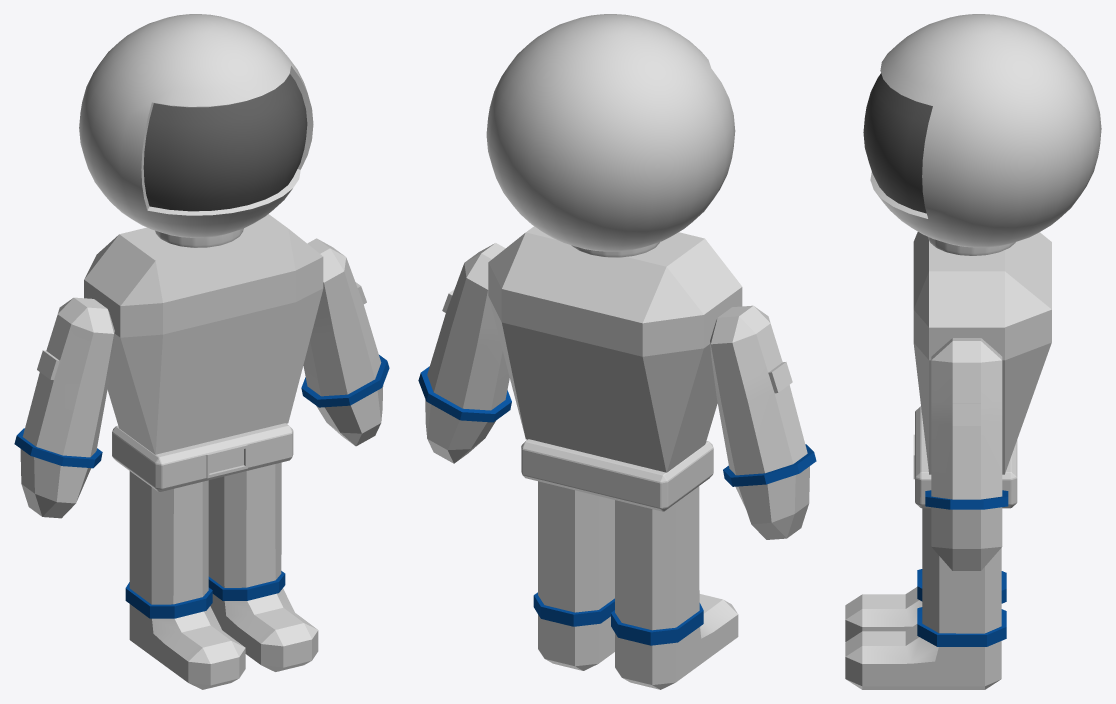
File: astoirnaut.fbx
The picture shows the model from 3 angles, left to right: view 1: azimuth 30°, elevation 25°; view 2: azimuth 150°, elevation 25°; view 3: azimuth 270°, elevation 25°; orthographic projection. The views are drawn at different scales.
Parts seen in each view (by area): view 1: pCube1, pSphere1, polySurface2, pCube9, pCube10, pCube4, pCylinder1; view 2: pSphere1, pCube1, polySurface2, pCube9, pCube10, pCube4; view 3: pSphere1, pCube1, polySurface2, pCube10, pCube9, pCube4, pCylinder1.
Part boxes in pixels (x1=…): pCube1: x1=84, y1=214, x2=323, y2=454; pSphere1: x1=79, y1=14, x2=313, y2=237; polySurface2: x1=14, y1=238, x2=389, y2=518; pCube9: x1=125, y1=471, x2=245, y2=689; pCube10: x1=208, y1=462, x2=318, y2=671; pCube4: x1=112, y1=423, x2=293, y2=492; pCylinder1: x1=155, y1=228, x2=243, y2=247; pSphere1: x1=486, y1=14, x2=735, y2=251; pCube1: x1=488, y1=226, x2=742, y2=472; polySurface2: x1=418, y1=243, x2=816, y2=539; pCube9: x1=611, y1=486, x2=738, y2=689; pCube10: x1=533, y1=481, x2=614, y2=670; pCube4: x1=521, y1=439, x2=713, y2=511; pSphere1: x1=863, y1=14, x2=1101, y2=247; pCube1: x1=913, y1=232, x2=1051, y2=474; polySurface2: x1=925, y1=338, x2=1008, y2=570; pCube10: x1=845, y1=508, x2=1006, y2=689; pCube9: x1=845, y1=569, x2=1006, y2=641; pCube4: x1=913, y1=406, x2=1017, y2=508; pCylinder1: x1=928, y1=237, x2=1015, y2=255.
Size of the model in its own units: 3.54 by 5.75 by 2.09.
